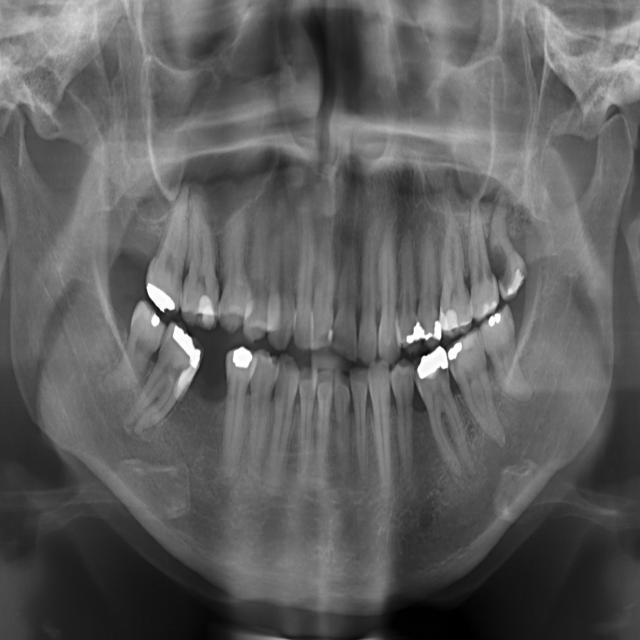AGS Medikal Implant: (357, 201, 383, 361)
AMerOss Implant: (378, 200, 402, 363)
Amalgam filling: (388, 215, 423, 356)
Anthogyr Implant: (409, 217, 442, 349)
Bicon Implant: (426, 202, 476, 342)
BioHorizons Implant: (455, 190, 503, 325)
BioLife Implant: (478, 181, 533, 303)
Biomet 3i Implant: (474, 302, 540, 413)
Blue Sky Bio Implant: (440, 327, 514, 456)
Camlog Implant: (407, 346, 480, 485)
Caries: (141, 168, 191, 318)
Cowellmedi Implant: (389, 356, 424, 500)
Crown: (368, 362, 397, 504)
DENTSPLY Implant: (349, 364, 374, 488)
Dentatus Implant: (332, 366, 356, 488)
Dentis Implant: (313, 365, 334, 479)
Dentium Implant: (290, 363, 319, 488)
Euroteknika Implant: (263, 353, 302, 500)
Filling: (240, 345, 278, 489)
Frontier Implant: (209, 342, 254, 493)
Hiossen Implant: (179, 176, 226, 332)
Implant: (119, 316, 214, 449)
Keystone Dental Implant: (90, 293, 176, 409)
MIS Implant: (216, 188, 251, 338)
Mandible: (241, 172, 275, 346)
Maxilla: (265, 174, 303, 352)
Megagen Implant: (292, 168, 316, 354)
Neodent Implant: (309, 197, 340, 356)
Neoss Implant: (330, 228, 358, 362)
